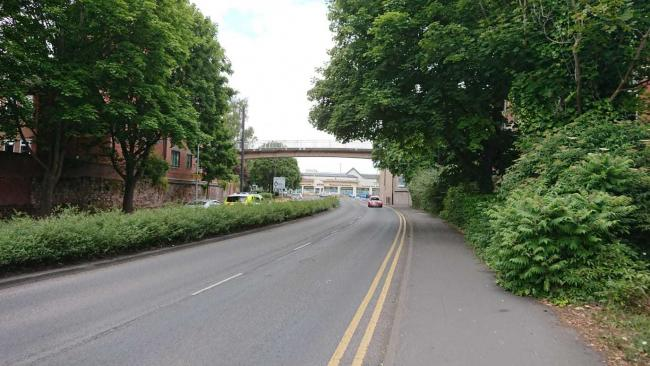bridge: (239, 139, 381, 160)
